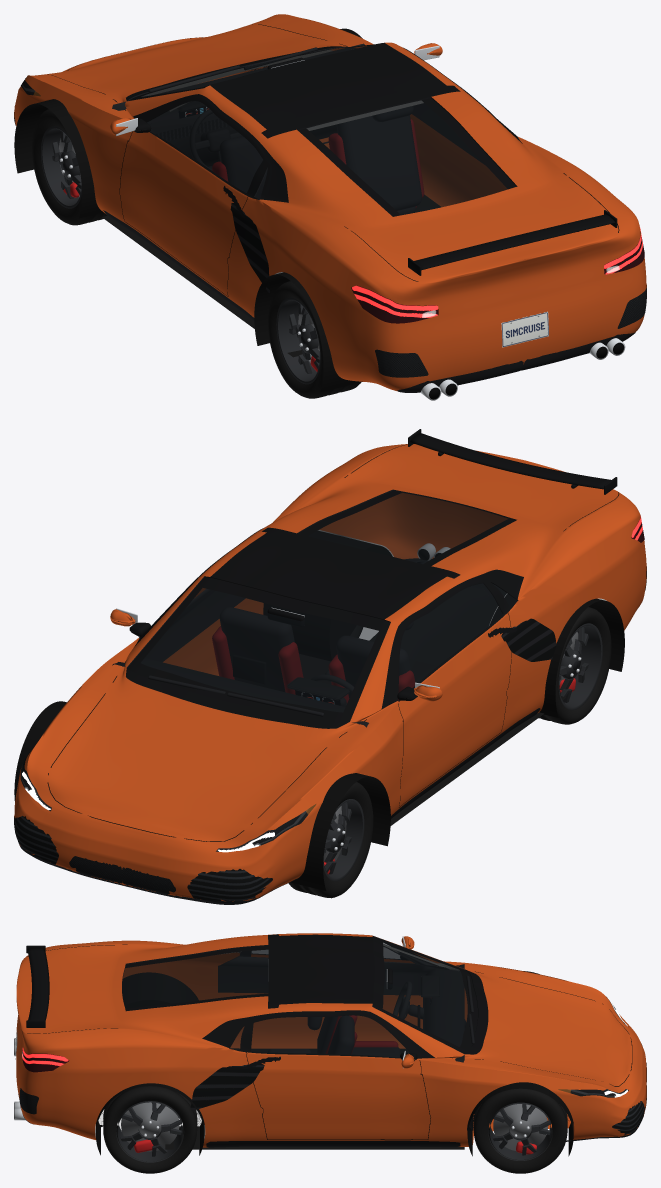
File: meridian_z.glb
The picture shows the model from 3 angles, top to bottom: view 1: azimuth 30°, elevation 25°; view 2: azimuth 150°, elevation 25°; view 3: azimuth 270°, elevation 25°; orthographic projection. The views are drawn at different scales.
Parts seen in each view (by area): view 1: body, seat_back, liner_f.001, dash, liner_r.001, wing, wheel_rl, lining, wheel_fl, seat_back.001, taillamp_l, floor (+14 smaller); view 2: body, liner_f.001, seat_back, lining, liner_r.001, wing, dash, floor, wheel_rl, corner_intake_l, liner_r, wheel_fl (+17 smaller); view 3: body, wheel_fr, wheel_rr, lining, dash, liner_r.001, side_intake, sill_trim, wheel_rr_disc, wheel_fr_disc, floor, wing (+14 smaller).
Part boxes in pixels (left/top/right/bottom): body: left=14, top=14, right=646, bottom=391; seat_back: left=336, top=115, right=421, bottom=210; liner_f.001: left=14, top=99, right=103, bottom=218; dash: left=112, top=43, right=364, bottom=167; liner_r.001: left=254, top=272, right=362, bottom=391; wing: left=414, top=214, right=615, bottom=270; wheel_rl: left=267, top=281, right=360, bottom=398; lining: left=141, top=49, right=484, bottom=164; wheel_fl: left=32, top=109, right=107, bottom=225; seat_back.001: left=219, top=136, right=267, bottom=199; taillamp_l: left=351, top=285, right=438, bottom=323; floor: left=102, top=195, right=440, bottom=357; body: left=14, top=444, right=646, bottom=901; liner_f.001: left=290, top=773, right=390, bottom=890; seat_back: left=219, top=607, right=294, bottom=691; lining: left=145, top=589, right=245, bottom=661; liner_r.001: left=490, top=594, right=624, bottom=717; wing: left=410, top=433, right=610, bottom=489; dash: left=112, top=658, right=368, bottom=727; floor: left=299, top=654, right=566, bottom=825; wheel_rl: left=538, top=607, right=611, bottom=724; corner_intake_l: left=187, top=869, right=272, bottom=900; liner_r: left=263, top=530, right=378, bottom=661; wheel_fl: left=288, top=782, right=373, bottom=898; body: left=16, top=933, right=646, bottom=1147; wheel_fr: left=473, top=1088, right=567, bottom=1173; wheel_rr: left=103, top=1086, right=197, bottom=1173; lining: left=218, top=944, right=459, bottom=995; dash: left=423, top=964, right=473, bottom=1130; liner_r.001: left=122, top=972, right=198, bottom=1005; side_intake: left=190, top=1064, right=264, bottom=1110; sill_trim: left=206, top=1140, right=460, bottom=1147; wheel_rr_disc: left=121, top=1102, right=179, bottom=1151; wheel_fr_disc: left=493, top=1104, right=547, bottom=1150; floor: left=165, top=1048, right=464, bottom=1149; wing: left=27, top=947, right=49, bottom=1020.
Size of the model in its own units: 2.19 by 1.24 by 4.65.
29 materials, 10 textured.
